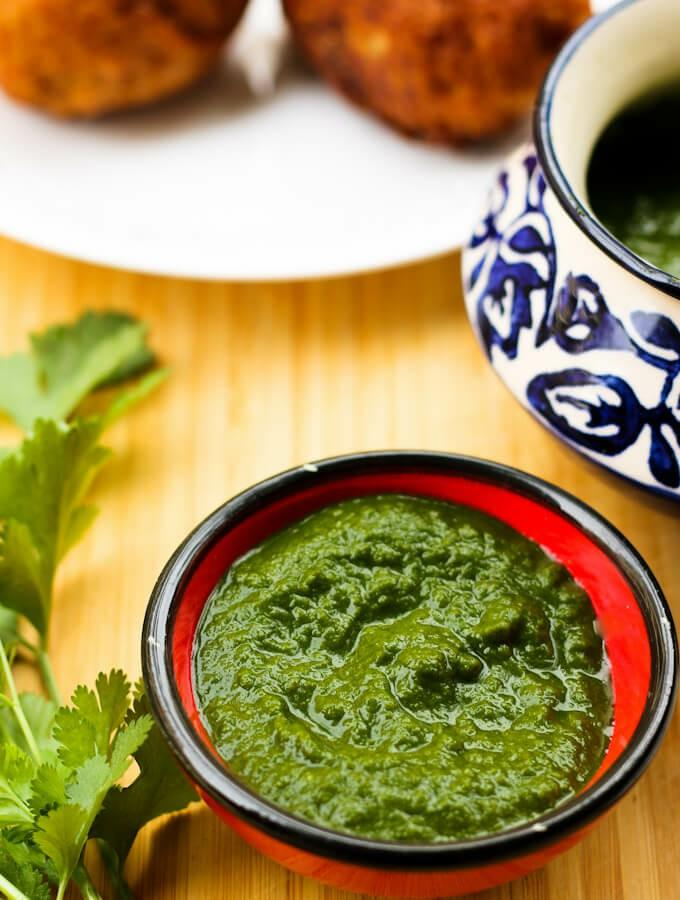GreenChutney: (188, 486, 603, 840)
